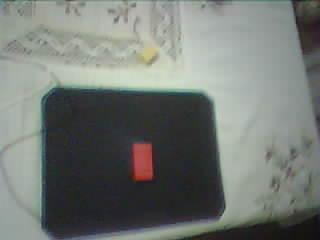lego: (130, 142, 155, 181), (137, 44, 159, 66)
